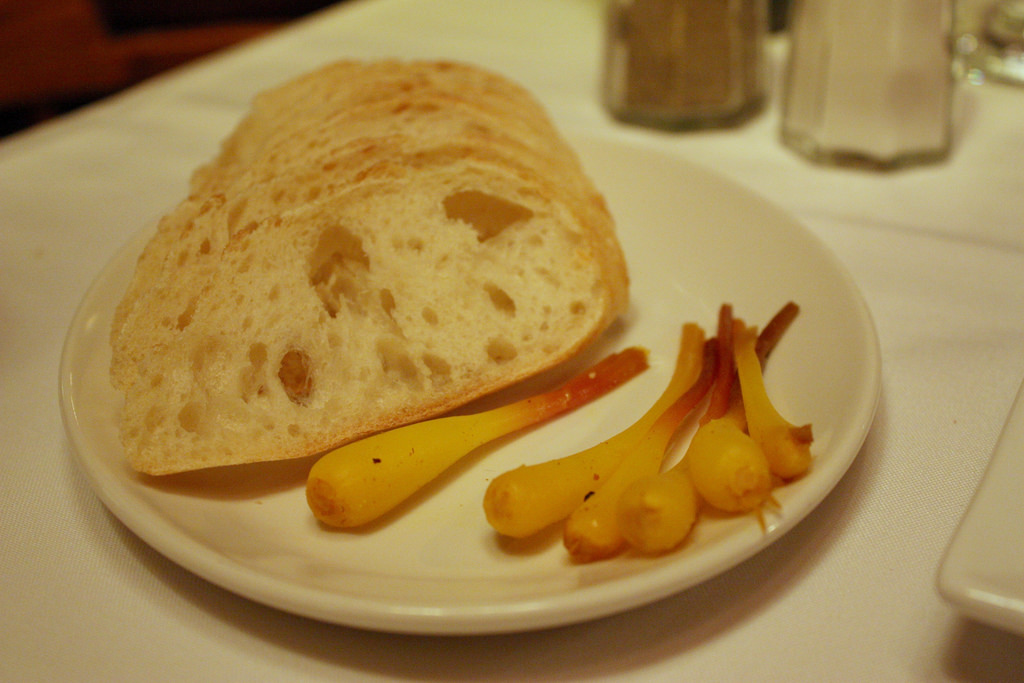slice of bread: (119, 184, 624, 359)
